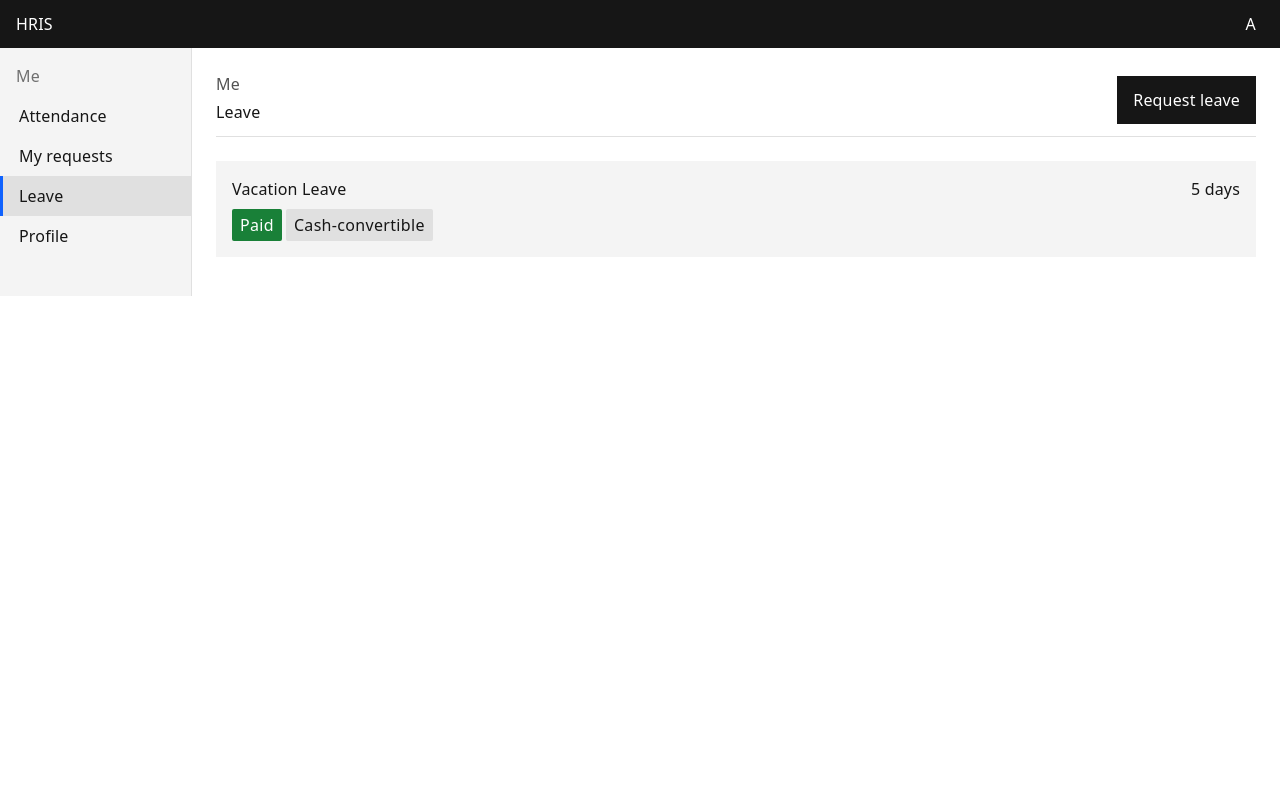
/me/leave › shows a "Request leave" button that opens LeaveRequestForm, and Cancel closes it again
Click the button "Request leave" at (1187, 100), box [1117,76,1256,124]
(page scrolled)
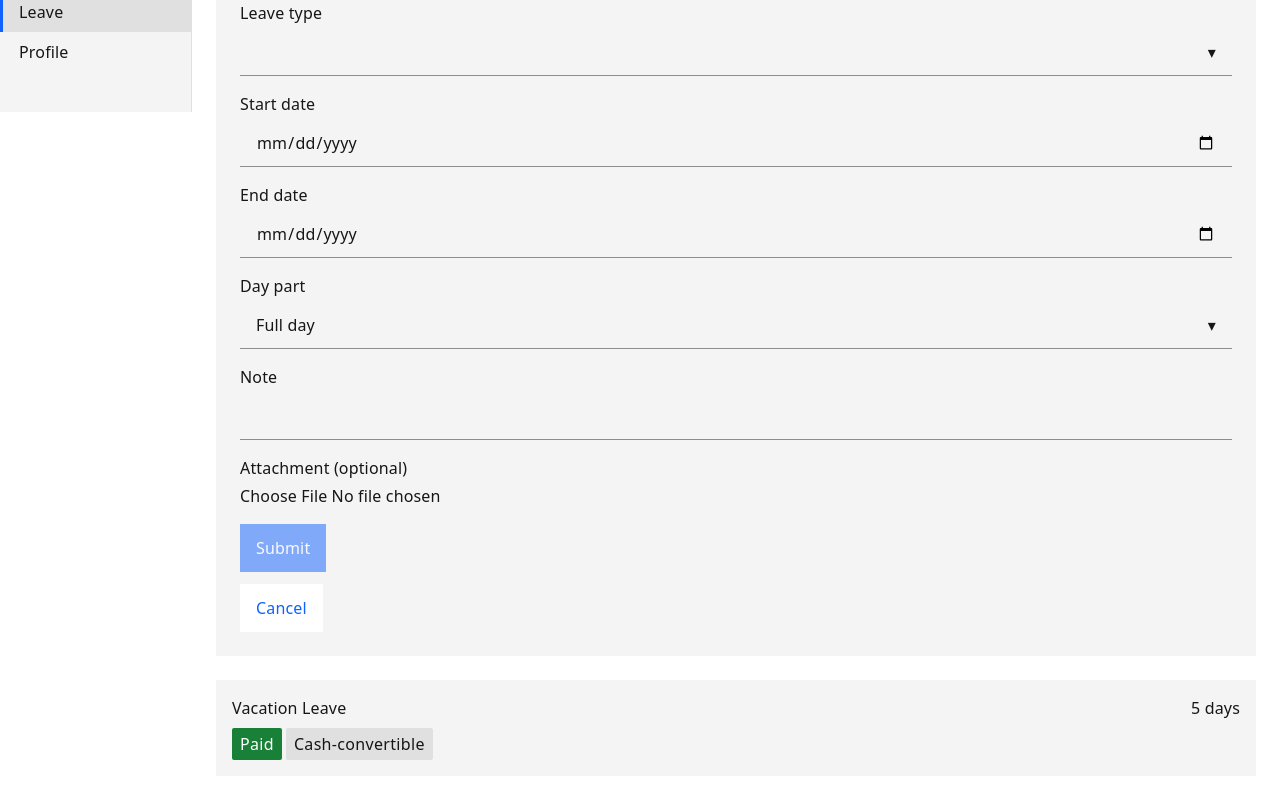
Check: the dropdown named "Leave type" is shown, box [240,29,1232,76]
Check: the button "Request leave" is gone
Click the button "Cancel" at (281, 608), box [240,584,323,632]
(page scrolled)
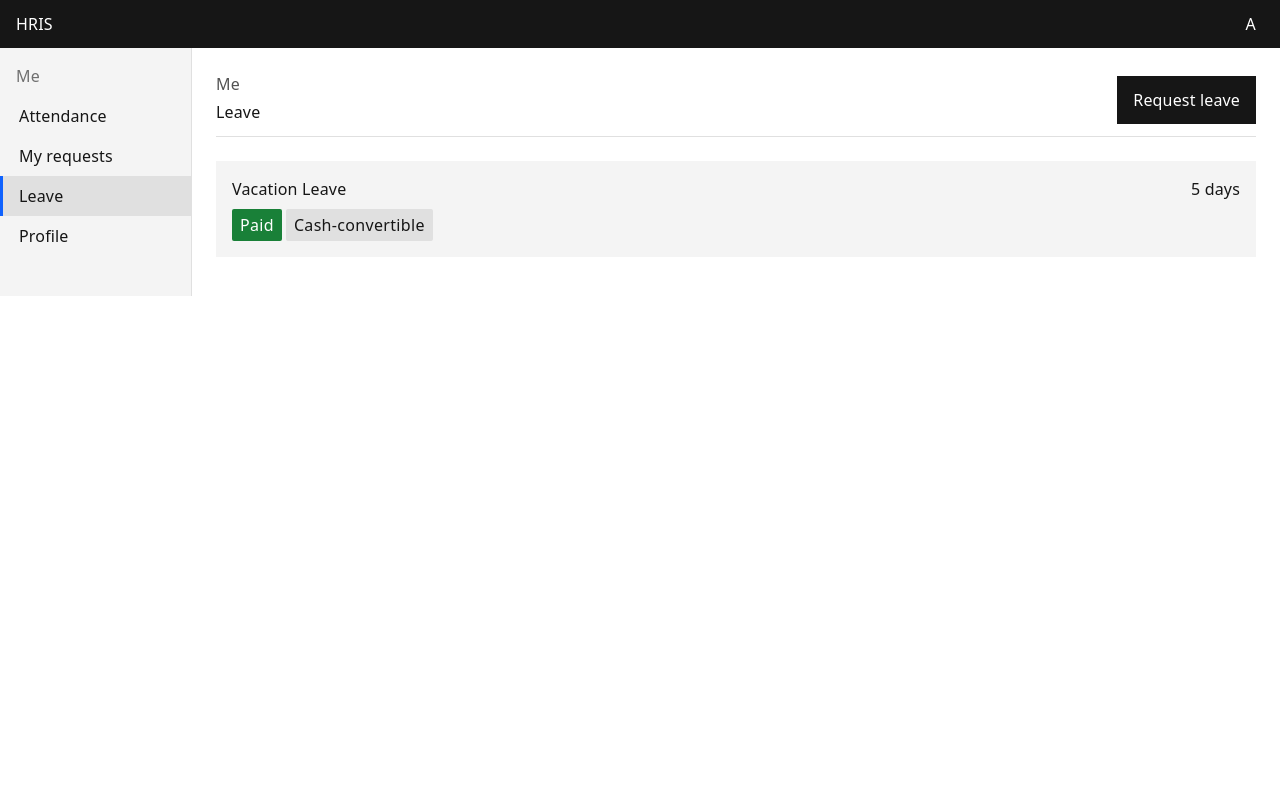
Check: the label labelled "Leave type" is gone
Check: the button "Request leave" is shown, box [1117,76,1256,124]
